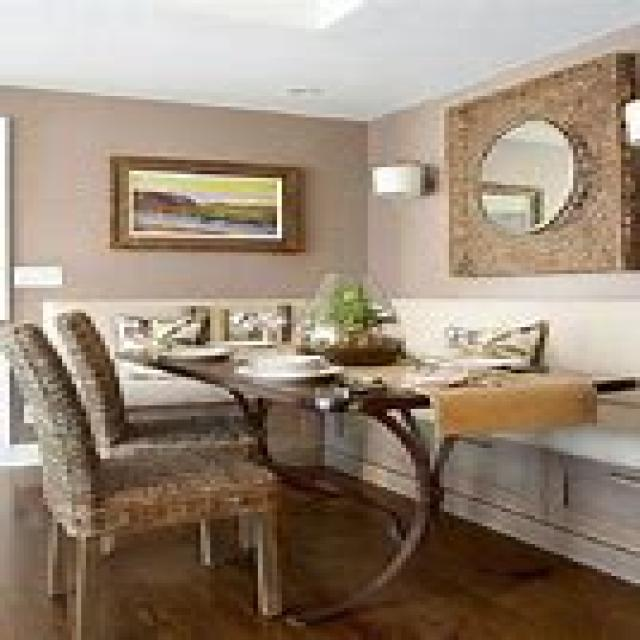chair: (5, 320, 282, 636)
table: (114, 341, 630, 626)
